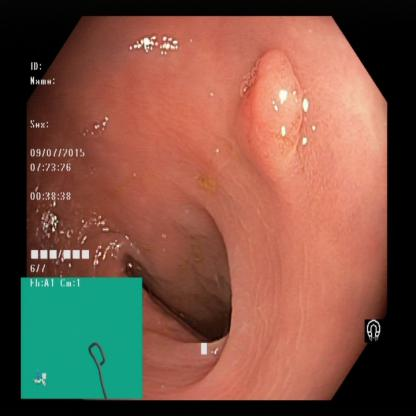Labels: (28, 53, 106, 279), (22, 277, 144, 398), (362, 307, 386, 354)
Polyps: (240, 43, 310, 171)
